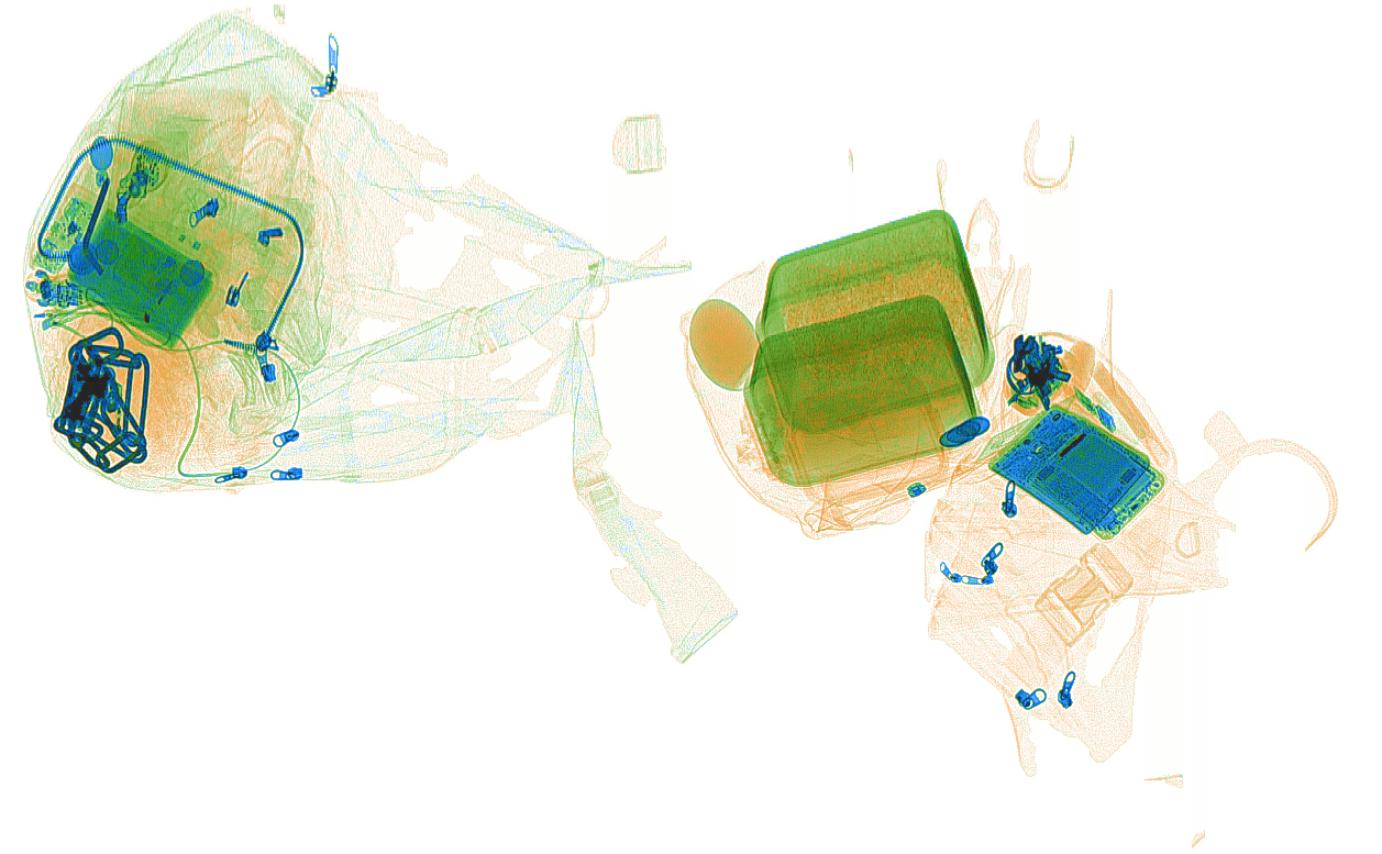USBFlashDisk: (1071, 385, 1116, 433)
lighter: (101, 380, 124, 479)
